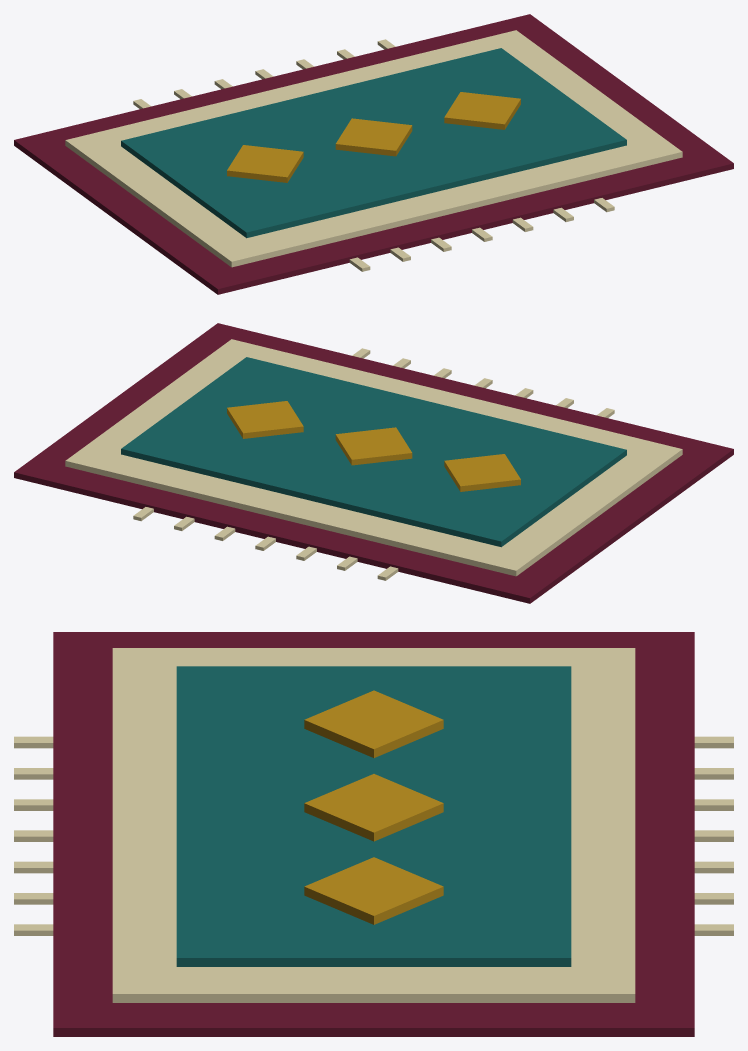
Rendered from prop_rug.18afc5e68c74.glb.
3 renders of one model, top to bottom at view 1: azimuth 30°, elevation 25°; view 2: azimuth 150°, elevation 25°; view 3: azimuth 270°, elevation 25°, orthographic. The views are drawn at different scales.
Visible parts, largest first — view 1: body; view 2: body; view 3: body.
Part boxes in pixels (x1=…): body: x1=14, y1=14, x2=733, y2=294; body: x1=14, y1=323, x2=733, y2=603; body: x1=14, y1=632, x2=733, y2=1036.
Size of the model in its own units: 1.9 by 0.08 by 1.46.
